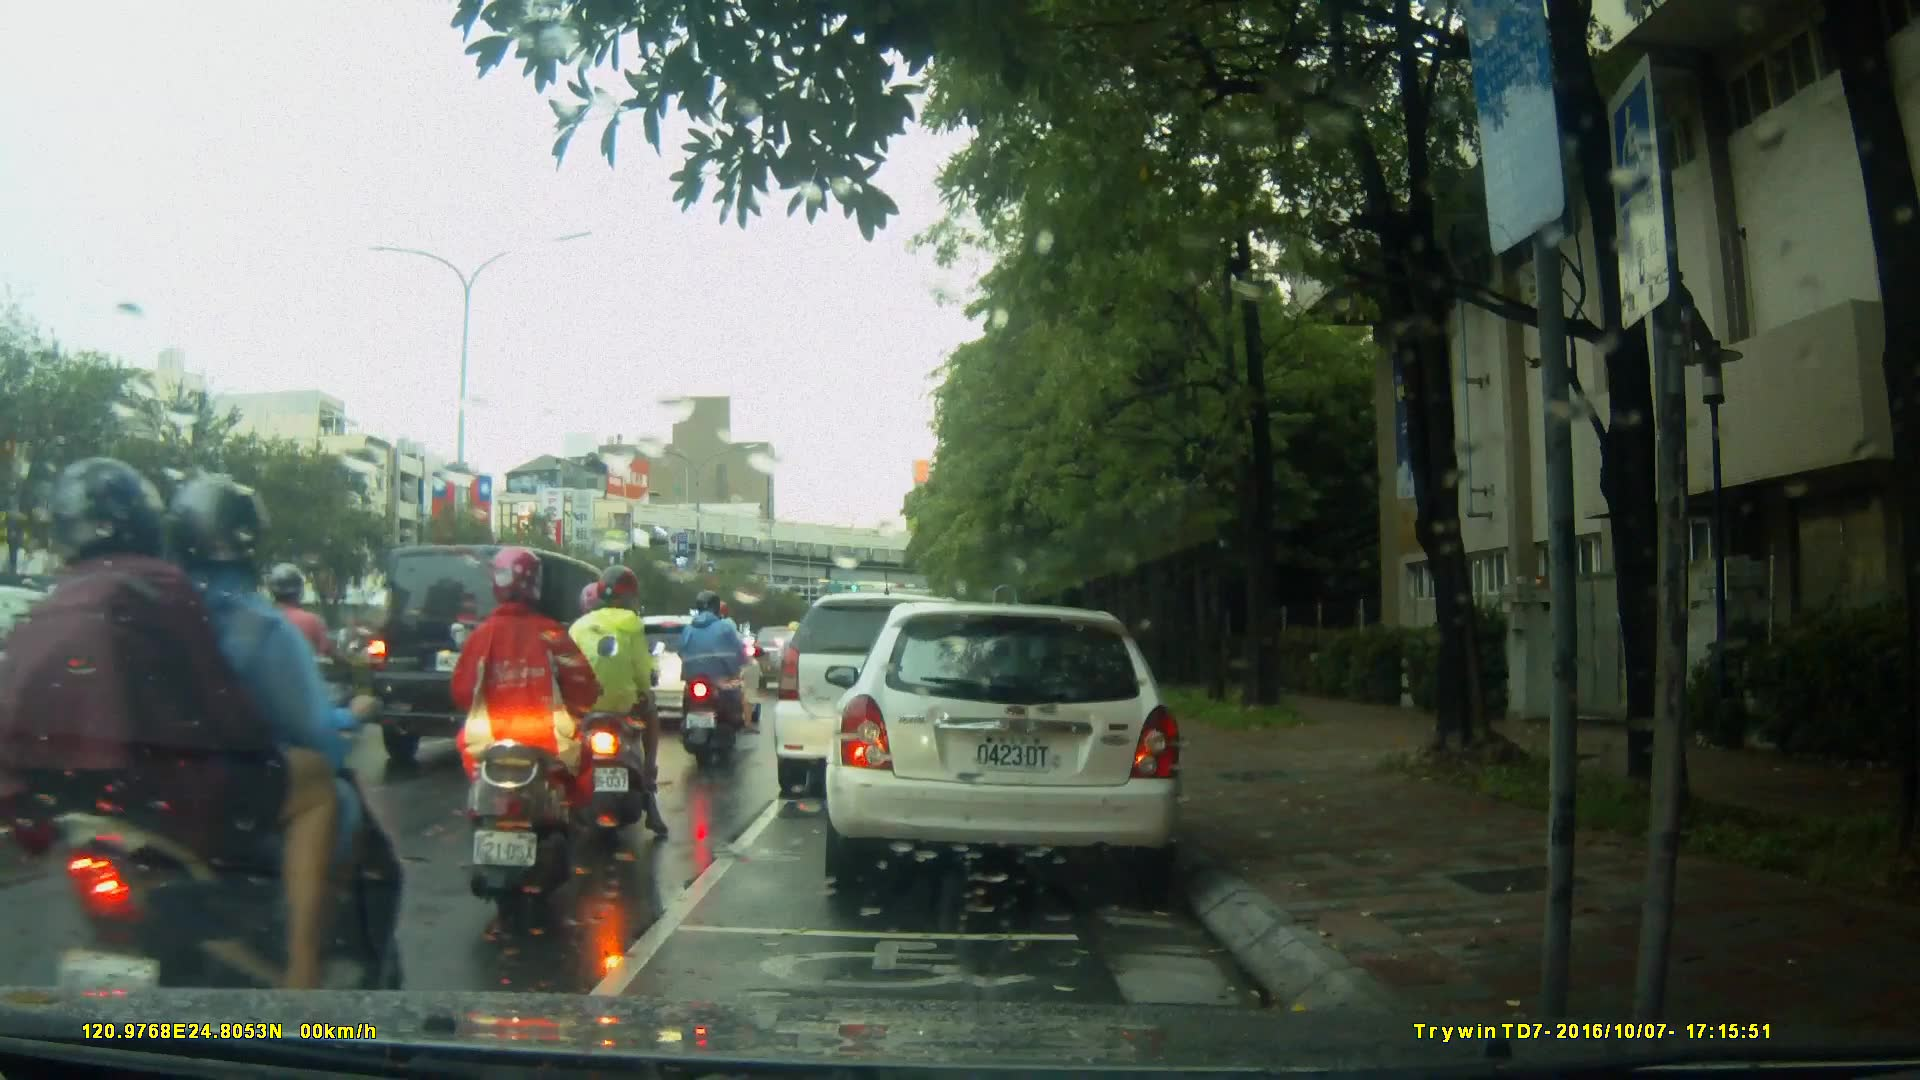rider: (8, 464, 383, 1040), (451, 544, 609, 930), (193, 561, 363, 820), (564, 566, 683, 845), (583, 594, 663, 815), (674, 591, 753, 762), (700, 601, 758, 737)
vehicle: (822, 604, 1188, 883), (366, 542, 648, 770), (774, 595, 995, 802)
